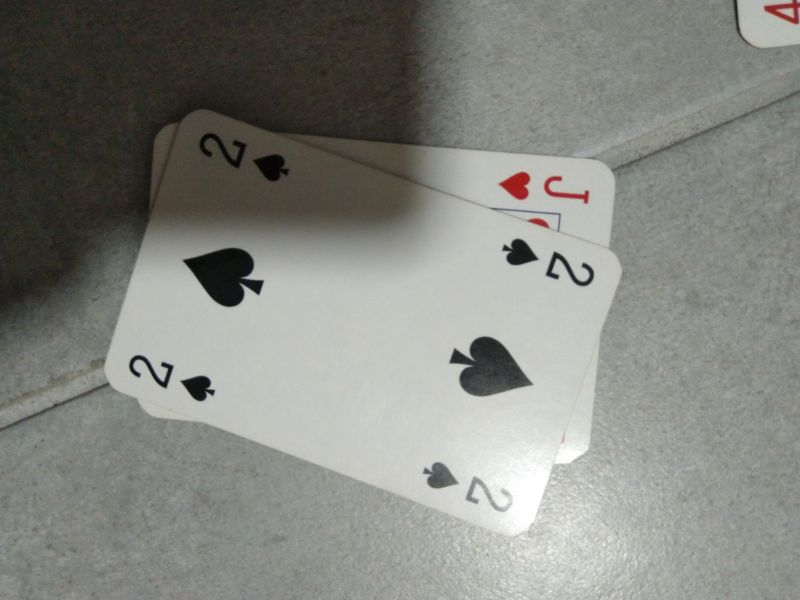2s: (414, 453, 523, 522), (193, 121, 298, 189), (495, 230, 602, 293), (124, 347, 223, 410)
Jh: (492, 164, 599, 213)
